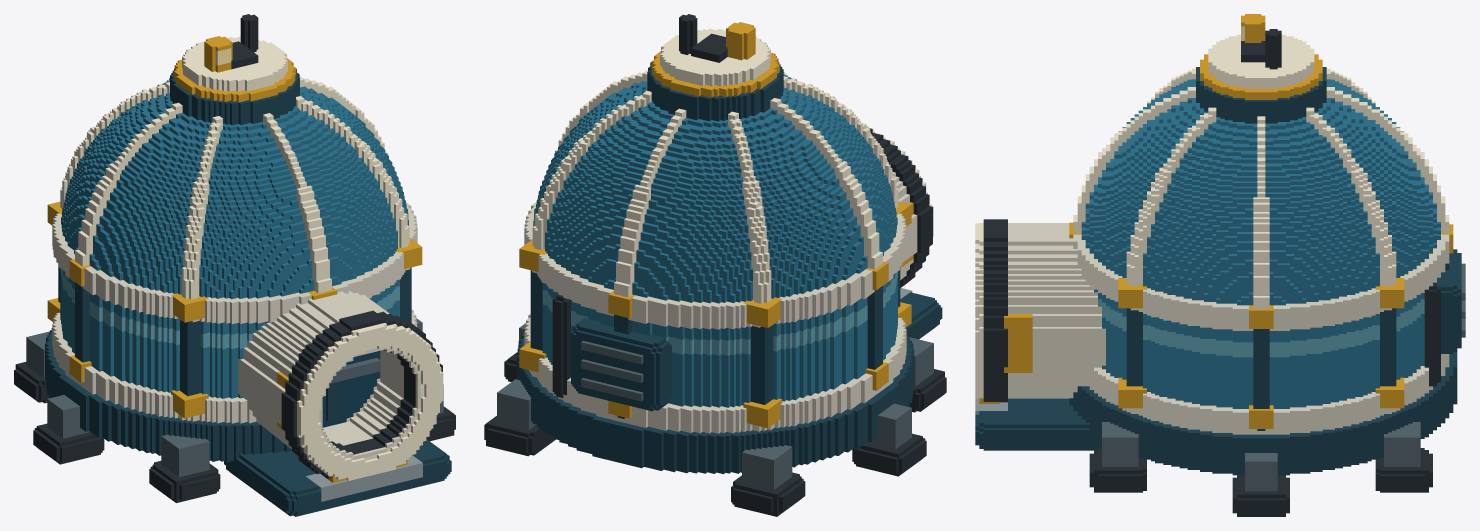
File: dome_laboratory.glb
3 views of the same model, side by side, from view 1: azimuth 30°, elevation 25°; view 2: azimuth 150°, elevation 25°; view 3: azimuth 270°, elevation 25° (orthographic). The views are drawn at different scales.
Parts seen in each view (by area): view 1: dome_laboratory; view 2: dome_laboratory; view 3: dome_laboratory.
Part boxes in pixels (x1=…): dome_laboratory: x1=14, y1=14, x2=455, y2=516; dome_laboratory: x1=484, y1=14, x2=946, y2=516; dome_laboratory: x1=975, y1=14, x2=1465, y2=516.
Bounding box in the file's own units: 6.72 × 6.48 × 7.2.
